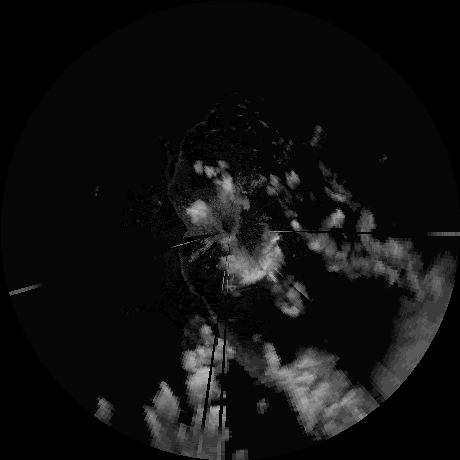frontgust: (178, 253, 216, 320), (167, 154, 185, 221)
